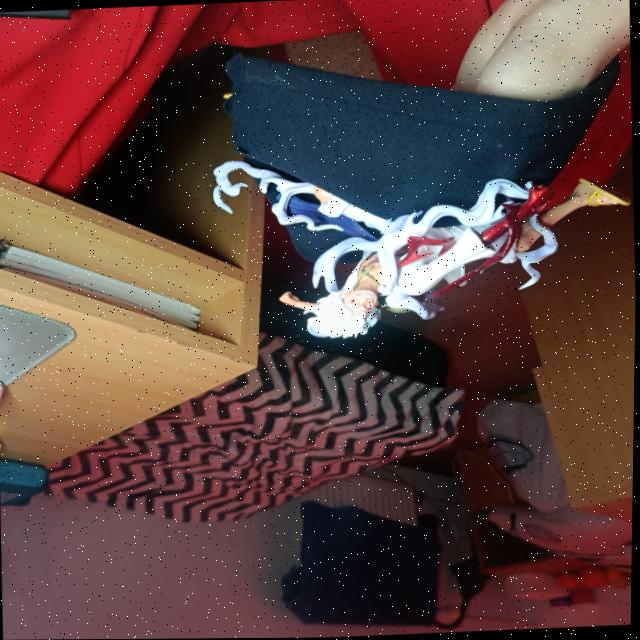luffy: (207, 134, 638, 345)
